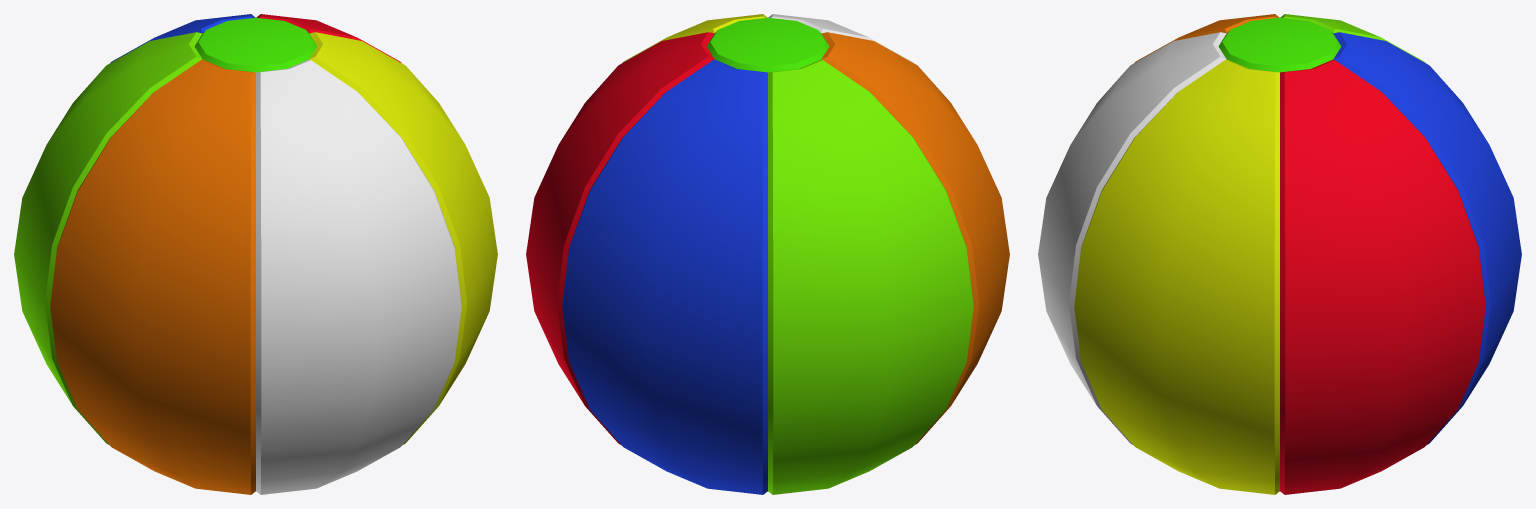
File: Beach Ball.fbx
3 views of the same model, side by side, from view 1: azimuth 30°, elevation 25°; view 2: azimuth 150°, elevation 25°; view 3: azimuth 270°, elevation 25° (orthographic).
Visible parts, largest first — view 1: Beach Ball; view 2: Beach Ball; view 3: Beach Ball.
Boxes of the visible parts, x1,y1,x2,y2 form: Beach Ball: [14, 14, 497, 494]; Beach Ball: [526, 14, 1009, 494]; Beach Ball: [1038, 14, 1521, 494].
Size of the model in its own units: 33.44 by 33.62 by 33.62.
